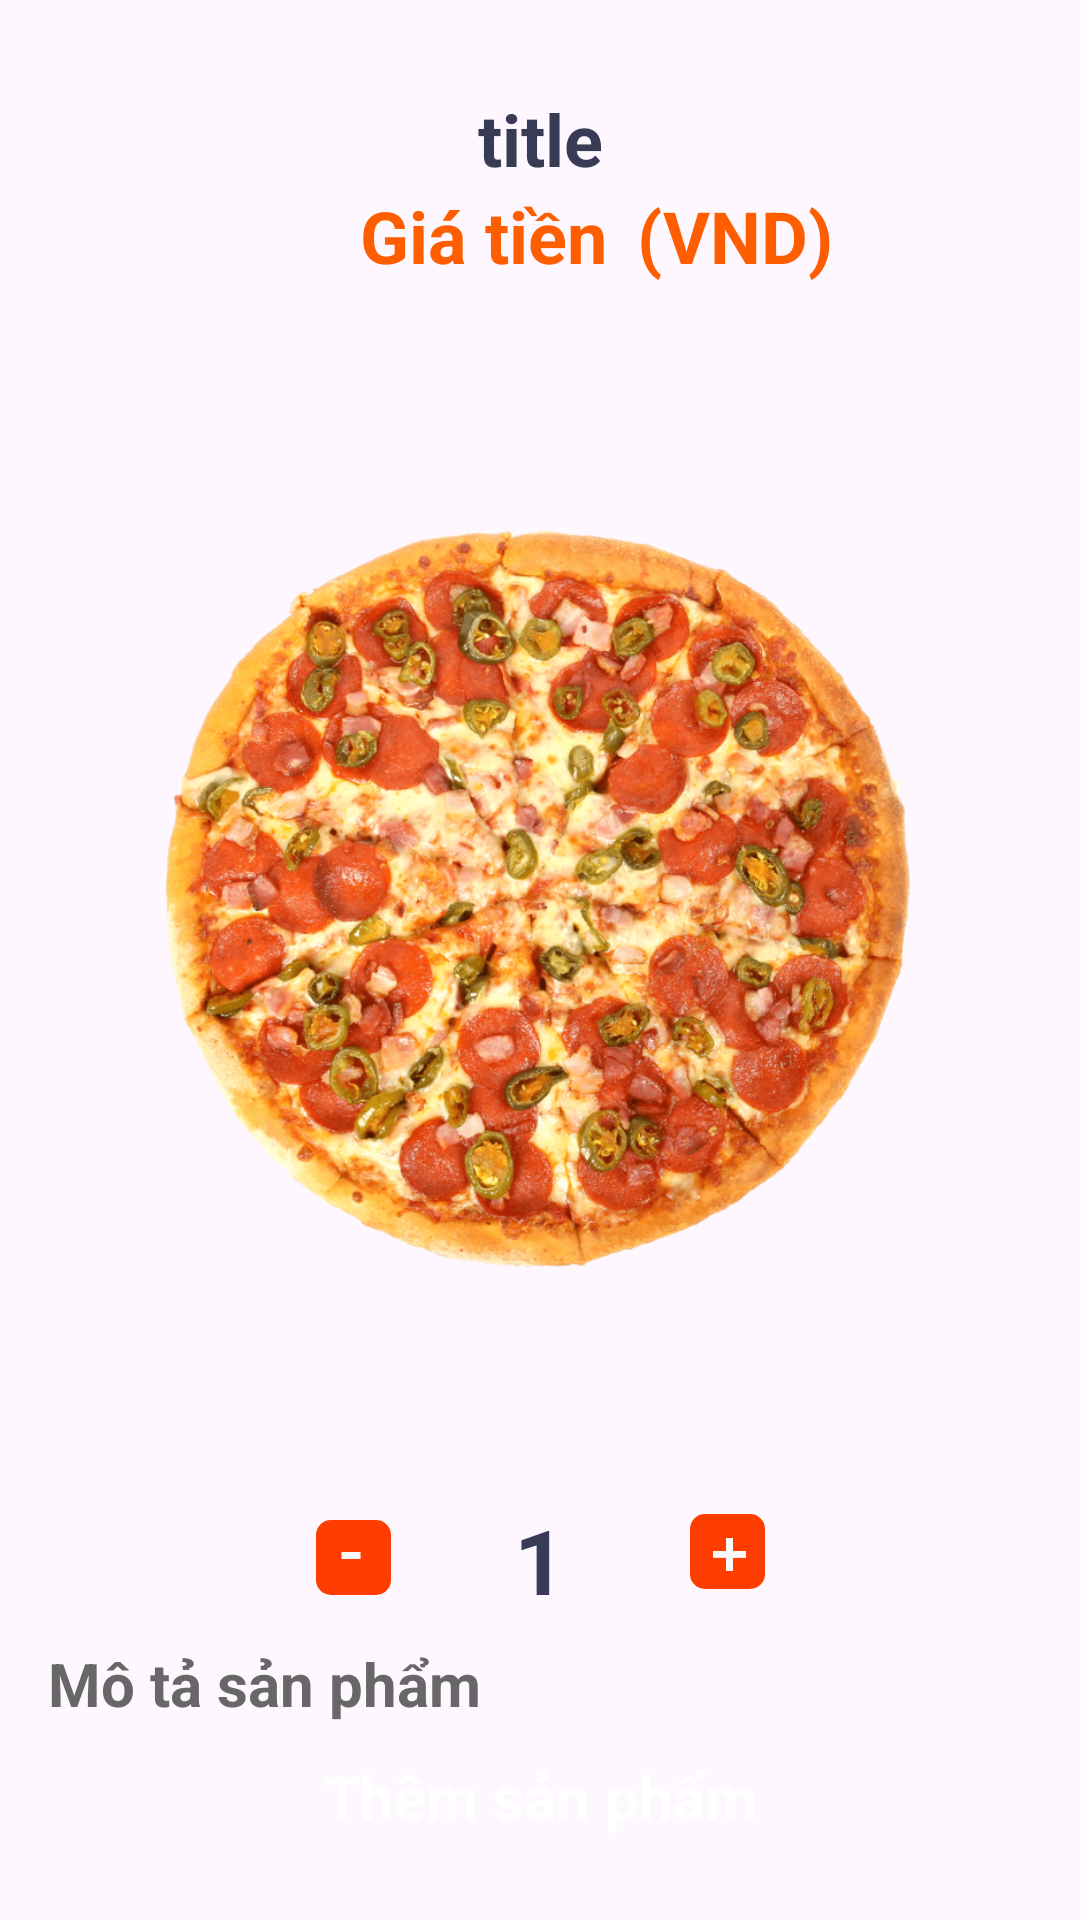

Icon click points for this 1080px×1920px phone screenshot, format (x,y):
minus: (353,1557)
plus: (727,1551)
